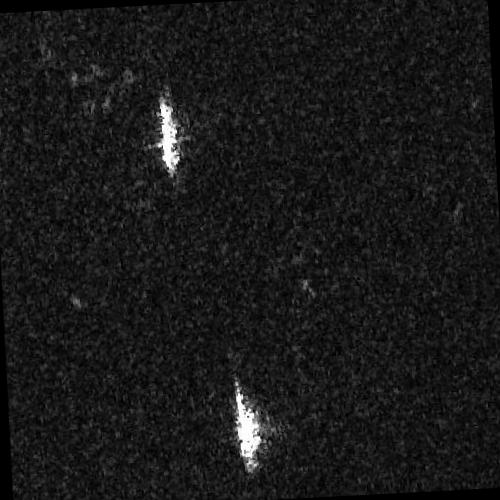ship: (233, 378, 264, 471), (157, 97, 180, 175)
